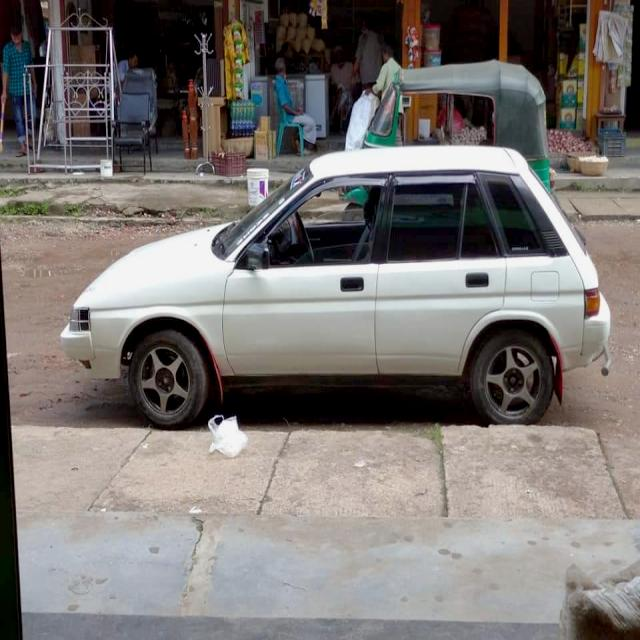white: (71, 144, 618, 391)
